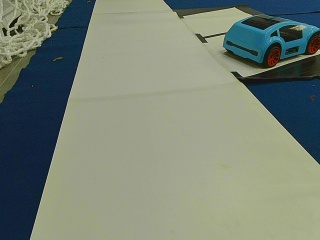car: (222, 13, 319, 66)
